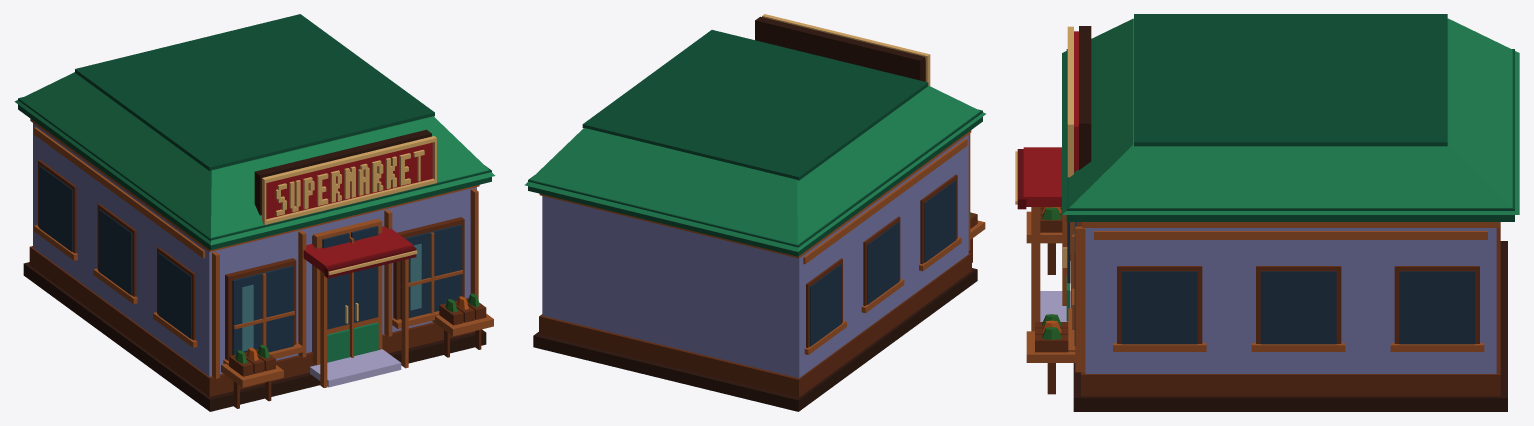
The model's file is supermarket-small.glb.
3 renders of one model, left to right at view 1: azimuth 30°, elevation 25°; view 2: azimuth 150°, elevation 25°; view 3: azimuth 270°, elevation 25°, orthographic. The views are drawn at different scales.
Visible parts, largest first — view 1: SmallSupermarket; view 2: SmallSupermarket; view 3: SmallSupermarket.
Part boxes in pixels (x1,y1,x2,y2): SmallSupermarket: (14, 14, 495, 411); SmallSupermarket: (524, 14, 985, 411); SmallSupermarket: (1015, 14, 1519, 411).
Bounding box in the file's own units: 7.45 × 5.55 × 9.81.
Materials: 1 (1 with a texture image).
